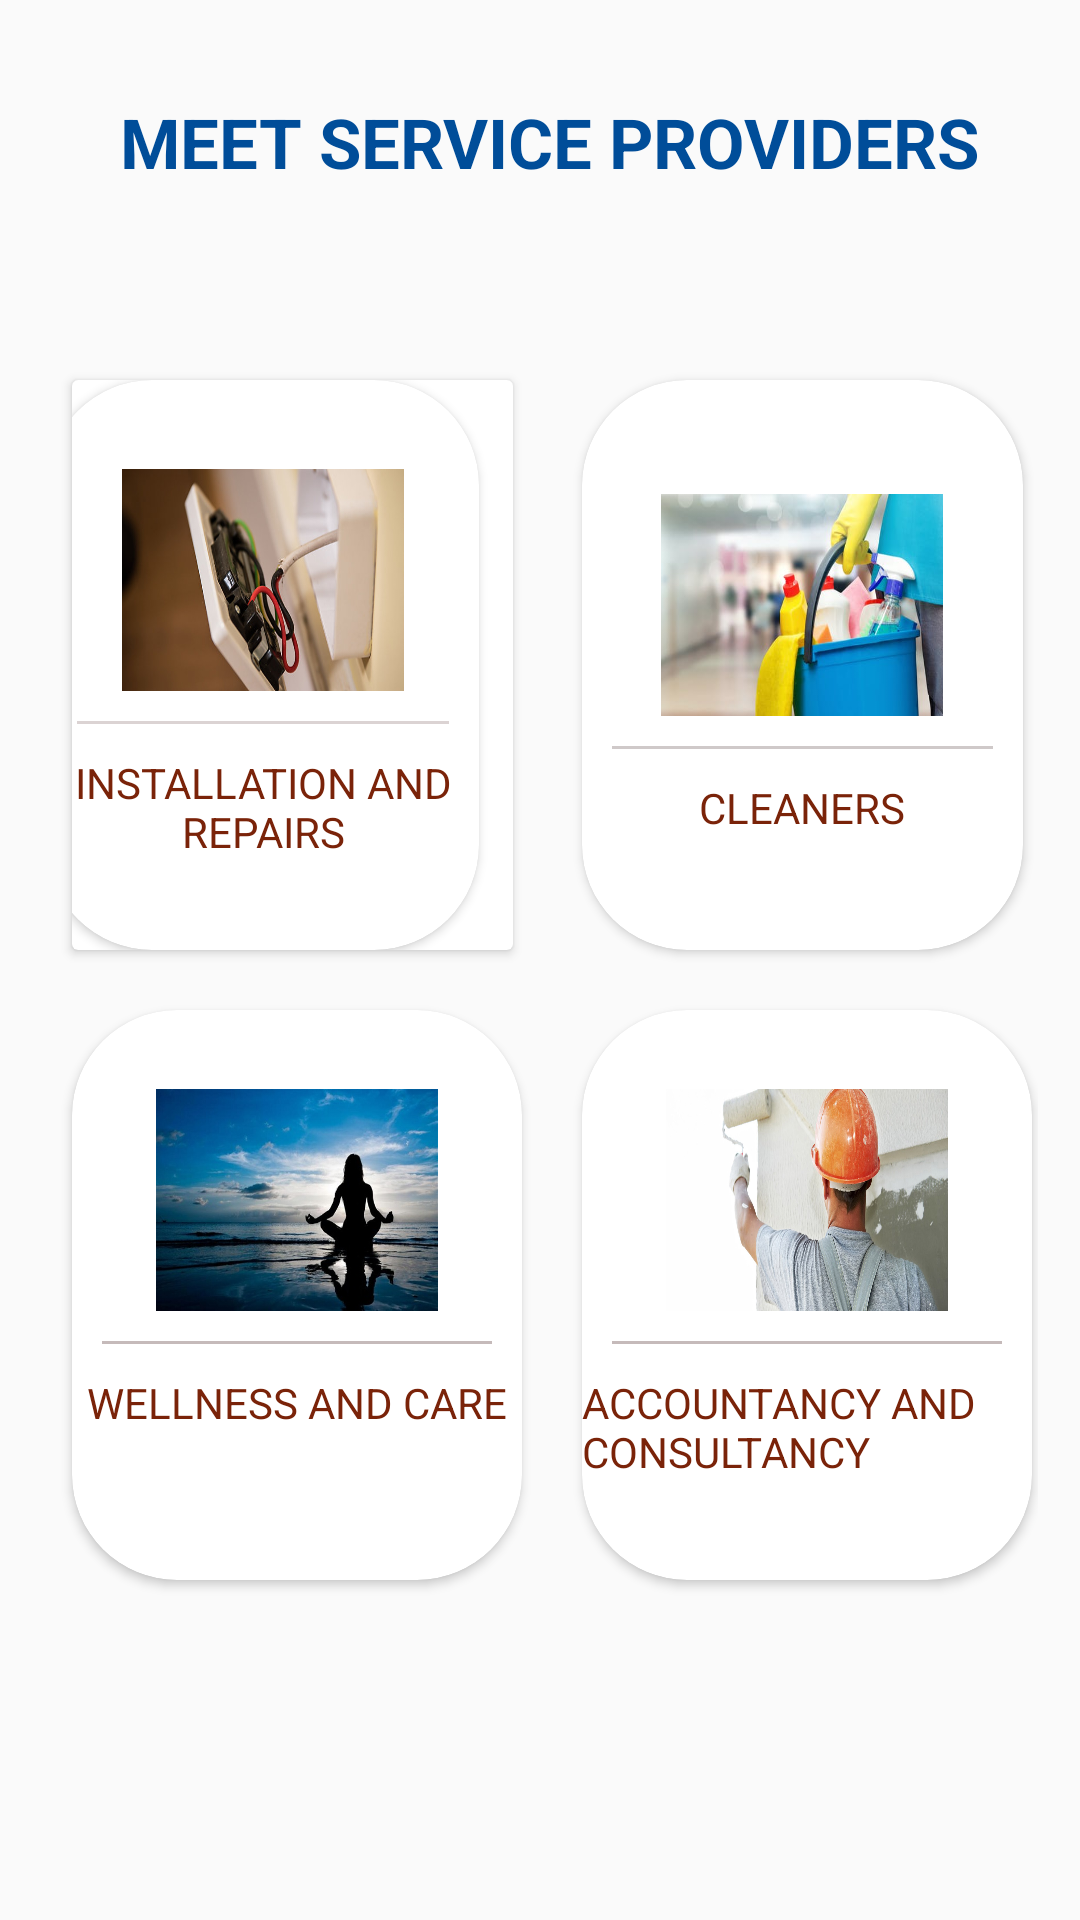

Icon bounding boxes for this 1080px x 1920px phone screenshot, format (x1, y1, x2, y2):
painter: (722, 1089, 948, 1311)
